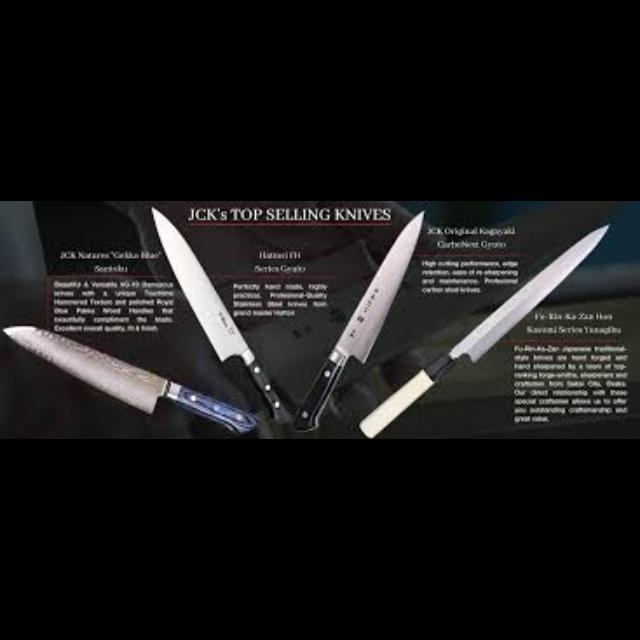Knife: (358, 222, 610, 438), (149, 204, 291, 426), (291, 210, 425, 432), (2, 324, 260, 436)
